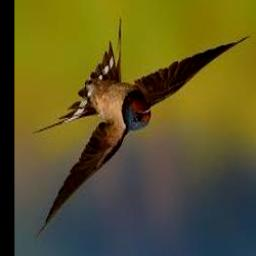Swallow: (33, 19, 250, 240)
